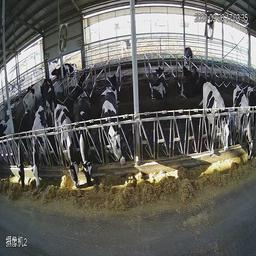cow: (98, 86, 133, 183), (49, 99, 81, 203), (200, 76, 230, 167), (74, 93, 98, 194), (27, 100, 48, 201), (233, 78, 254, 167), (12, 99, 30, 197), (24, 63, 55, 100), (145, 59, 168, 104), (176, 63, 197, 101), (54, 55, 81, 80), (104, 67, 120, 94), (180, 41, 195, 63)
